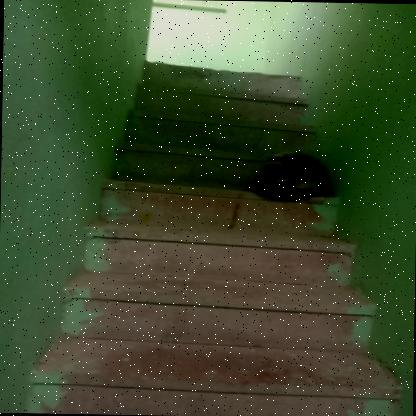stair: (32, 53, 381, 416)
